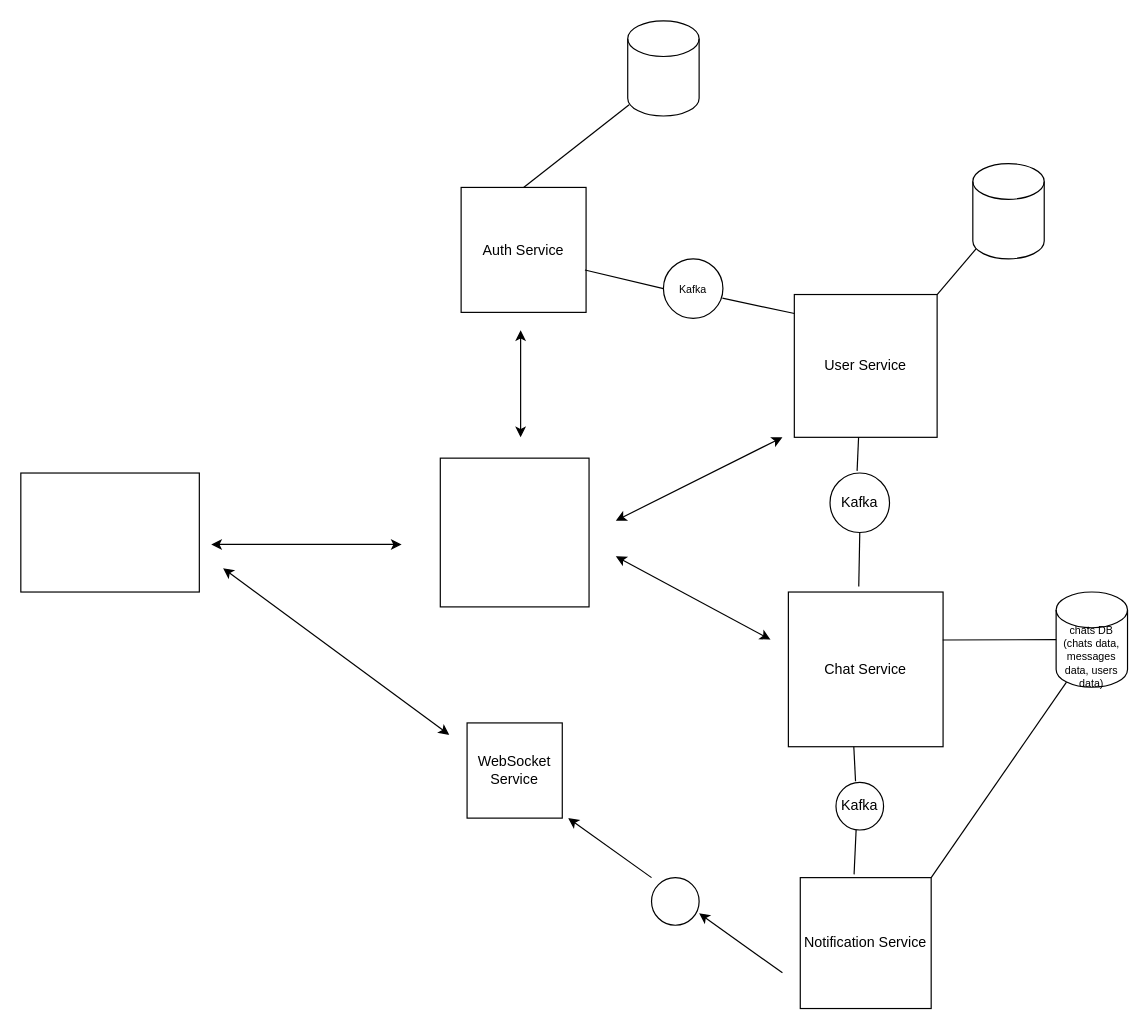
This 1148x1029 diagram has some shape labels left out. The shapes that lost their labels are listed below. From the top down, each one's box as (x1, y1, x2, y2) in pixels, then its label:
(627, 20, 699, 116): Auth DB (data for auth )
(972, 162, 1044, 259): User DB (user data)
(20, 472, 199, 592): Frontend
(439, 457, 589, 607): Api Gateway
(650, 876, 699, 925): Rabbit Mq
